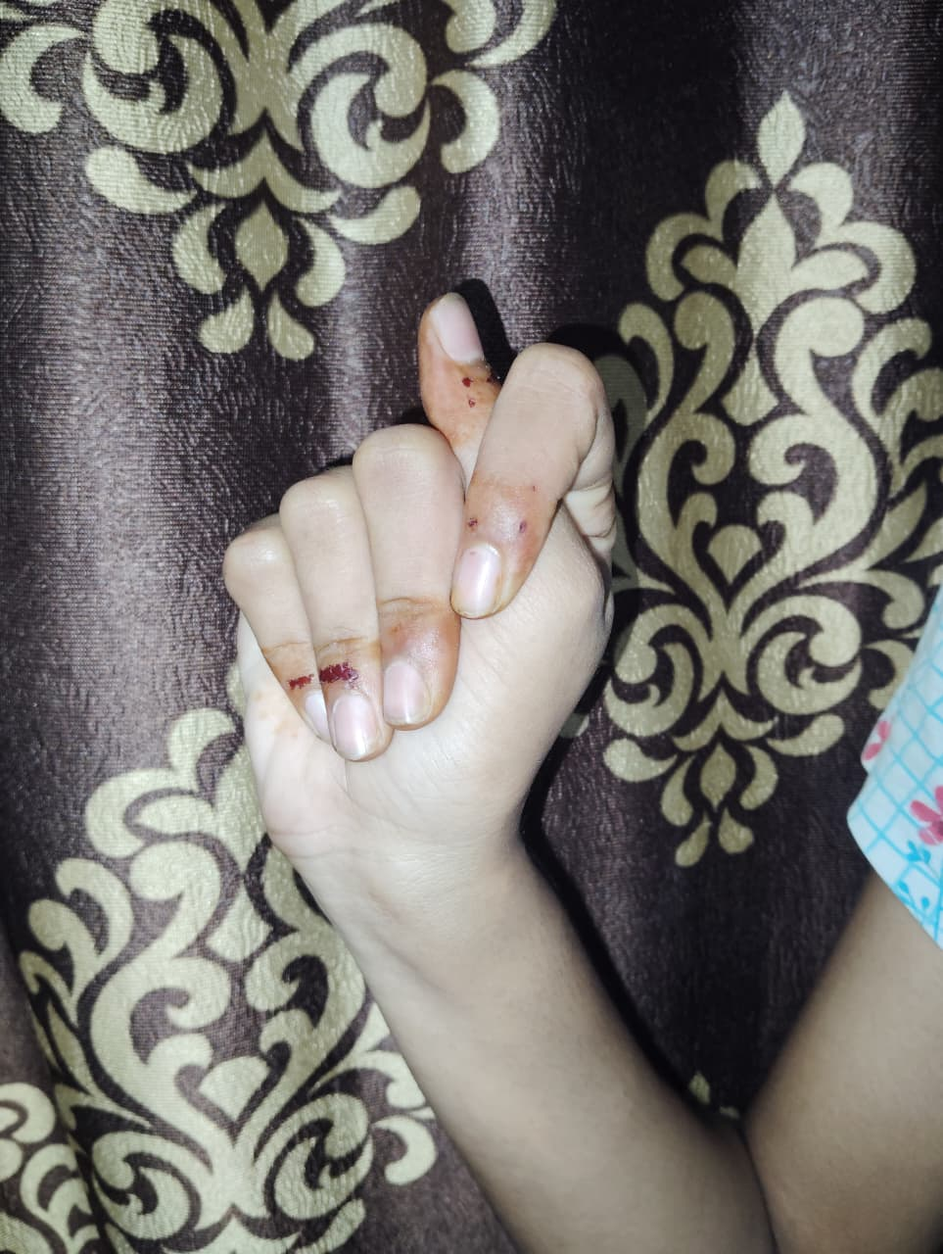T: (221, 286, 606, 862)
